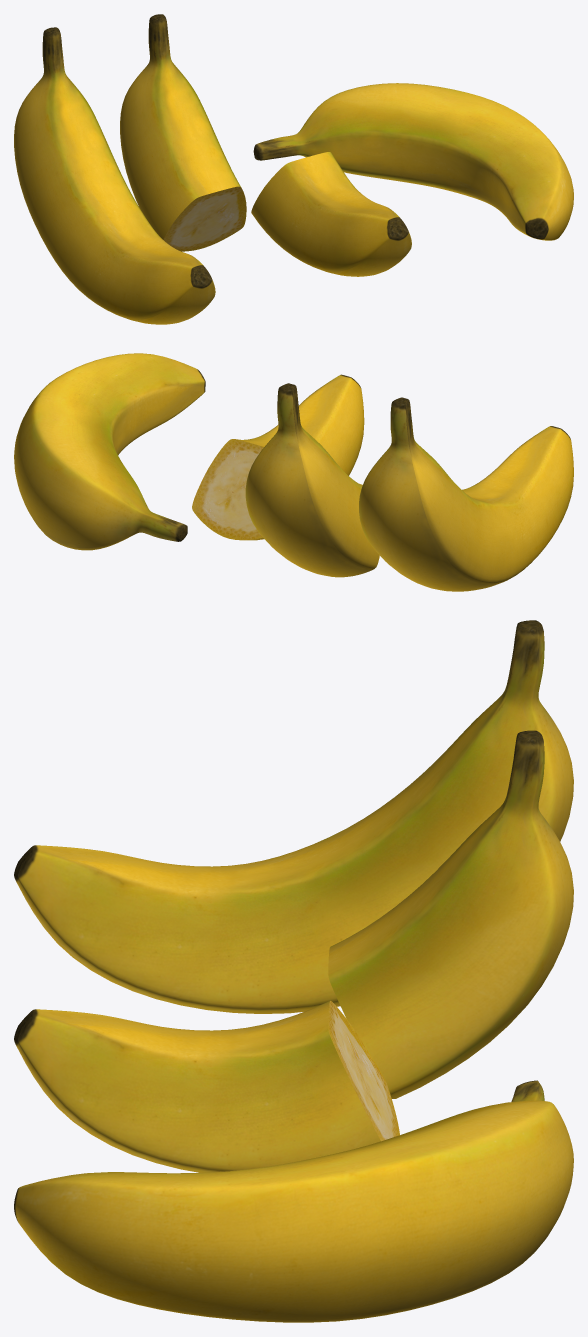
File: uploads_files_5041111_bnana.FBX
3 views of the same model, one above another, from view 1: azimuth 30°, elevation 25°; view 2: azimuth 150°, elevation 25°; view 3: azimuth 270°, elevation 25° (orthographic). The views are drawn at different scales.
Parts seen in each view (by area): view 1: bnana3, bnana6, bnana4, bnana1; view 2: bnana3, bnana6, bnana4, bnana1; view 3: bnana6, bnana3, bnana1, bnana4.
Boxes of the visible parts, x1,y1,x2,y2 form: bnana3: (14, 27, 215, 324); bnana6: (253, 83, 573, 240); bnana4: (120, 14, 246, 251); bnana1: (251, 152, 411, 276); bnana3: (359, 397, 573, 591); bnana6: (14, 353, 205, 550); bnana4: (245, 383, 379, 577); bnana1: (192, 374, 364, 540); bnana6: (14, 1080, 573, 1322); bnana3: (14, 620, 573, 1013); bnana1: (14, 1000, 399, 1172); bnana4: (328, 730, 573, 1098).
Size of the model in its own units: 29.1 by 13.52 by 18.06.
1 material, 1 textured.
